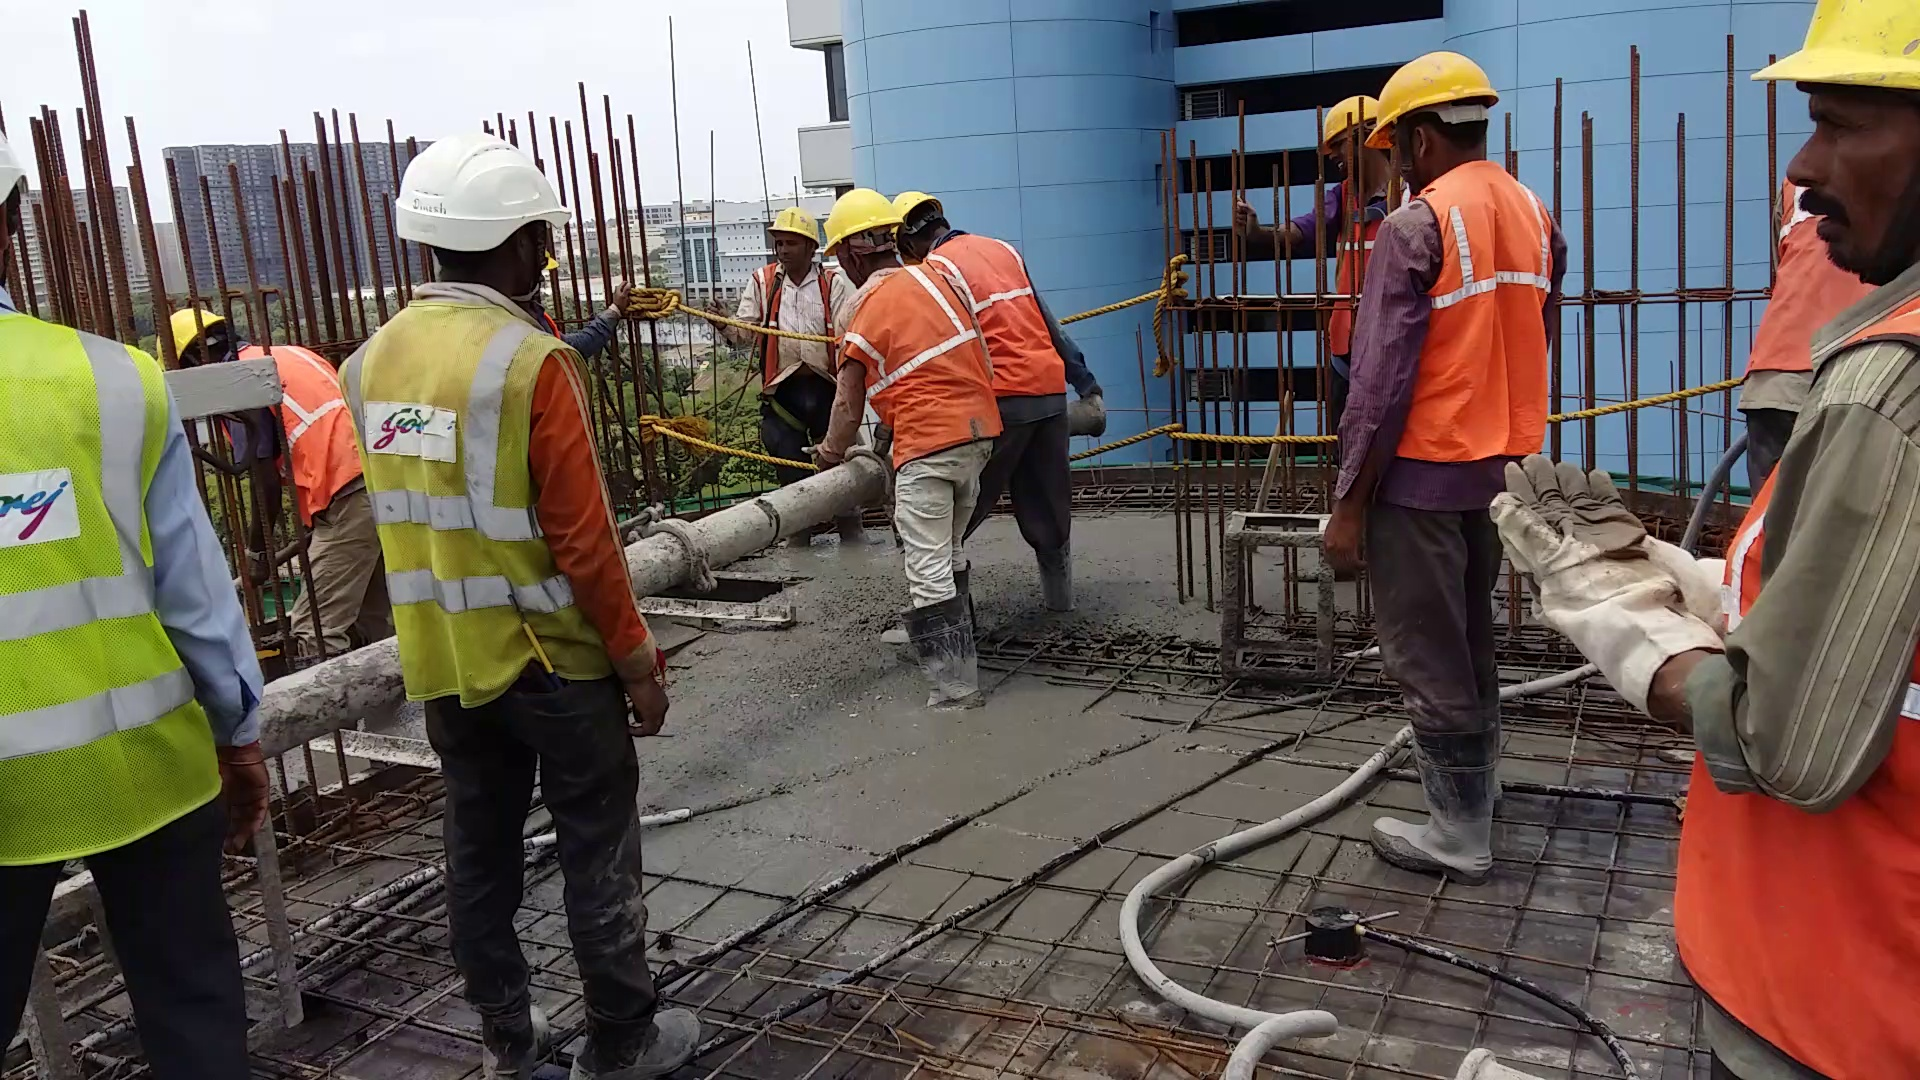NoHardhat: (3, 309, 179, 893)
SAFE: (1677, 1, 1917, 1062), (320, 131, 618, 695), (1337, 46, 1553, 483), (835, 186, 977, 473), (746, 200, 832, 396)
